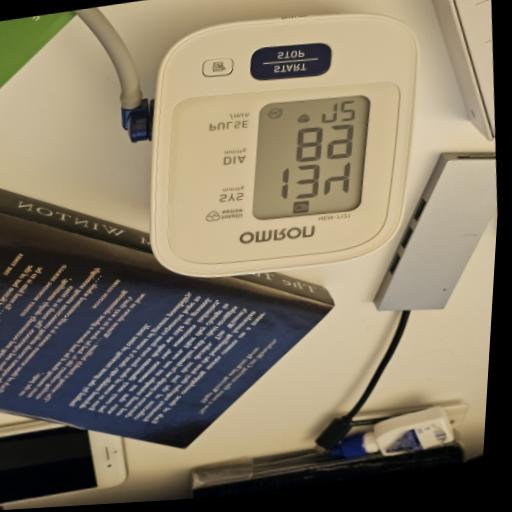blood pressure monitor: (126, 0, 443, 293)
